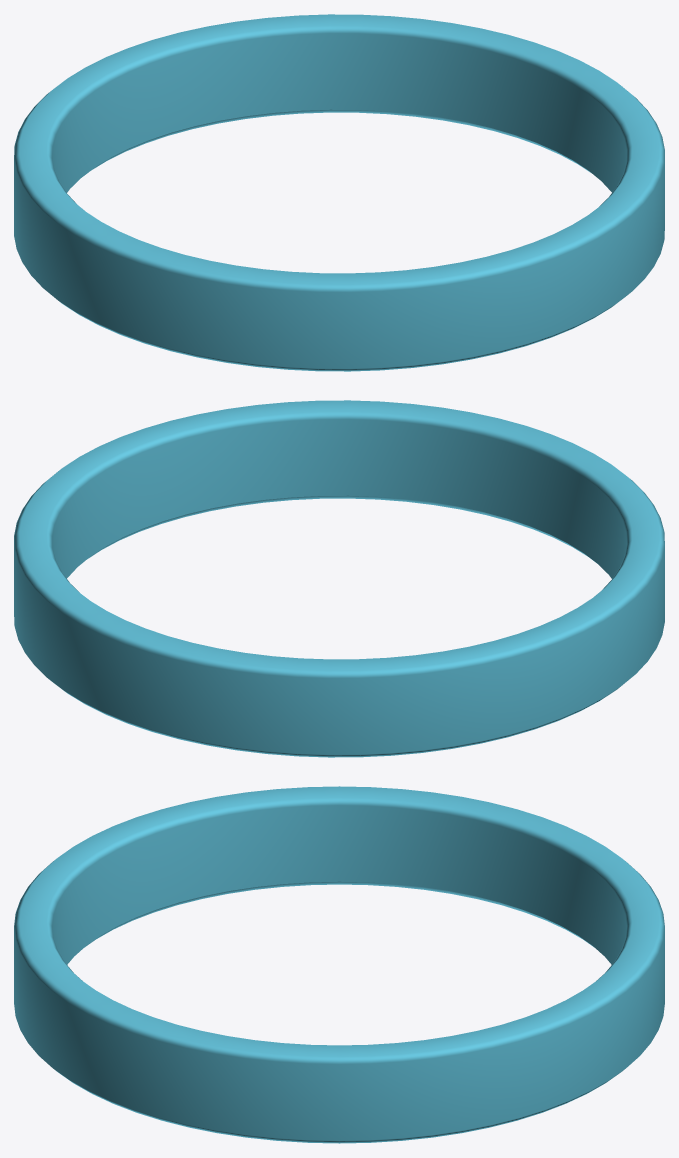
3 renders of one model, top to bottom at view 1: azimuth 30°, elevation 25°; view 2: azimuth 150°, elevation 25°; view 3: azimuth 270°, elevation 25°, orthographic.
Parts seen in each view (by area): view 1: seal_body; view 2: seal_body; view 3: seal_body.
Boxes of the visible parts, x1,y1,x2,y2 form: seal_body: (14, 14, 664, 371); seal_body: (14, 400, 664, 757); seal_body: (14, 786, 664, 1143).
Bounding box in the file's own units: 0.068 × 0.01 × 0.068.
